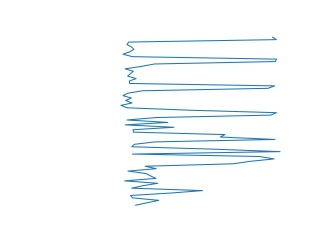crevasseRiverChannelBar: (126, 163, 277, 207)
majorRiverBedLagDeposit: (121, 119, 283, 160)
majorRiverChannelBar: (119, 35, 279, 115)
